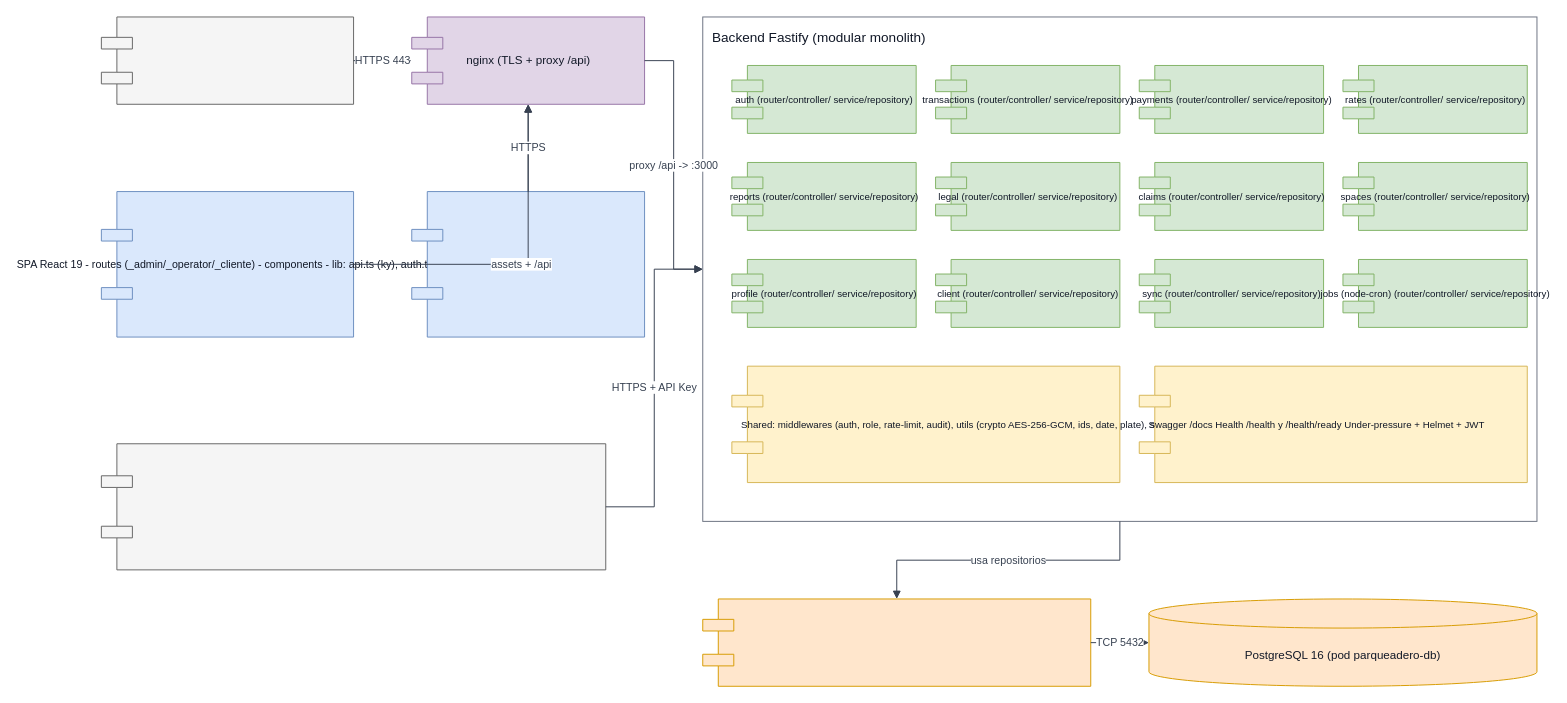
This 1567x703 diagram has some shape labels left out. Each missing label, with the centre of its shape:
"Cliente Web (Navegador: Chromium/Firefox)" goes at point 227,60.
"Portal Cliente - autenticacion email - transaccion + ultimos 4 - historial" goes at point 528,264.
"POS offline SQLite local (pendiente SQLCipher) + POST /api/sync con API Key" goes at point 353,506.
"Prisma Client (ORM)" goes at point 896,642.
